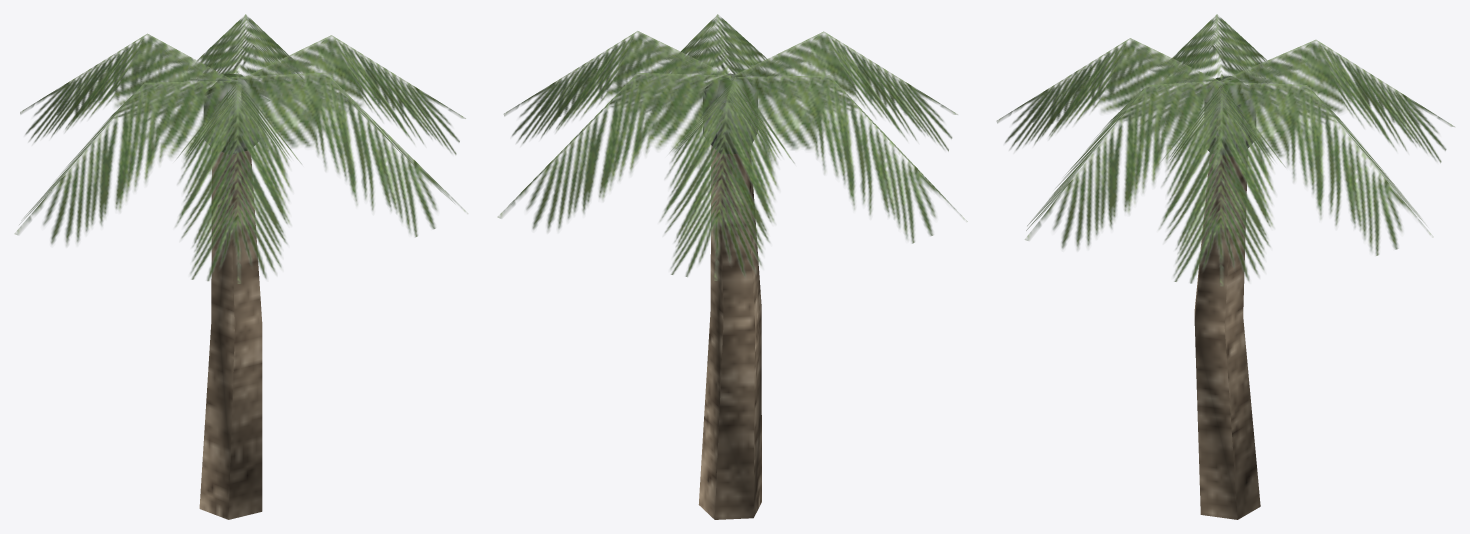
File: palm_0.glb
3 views of the same model, side by side, from view 1: azimuth 30°, elevation 25°; view 2: azimuth 150°, elevation 25°; view 3: azimuth 270°, elevation 25° (orthographic).
Visible parts, largest first — view 1: palm_0; view 2: palm_0; view 3: palm_0.
Part boxes in pixels (x1,y1,x2,y2): palm_0: (14,14,467,519); palm_0: (497,14,967,519); palm_0: (996,14,1454,519).
Size of the model in its own units: 4.4 by 4.13 by 3.84.
Materials: 3 (3 with a texture image).
